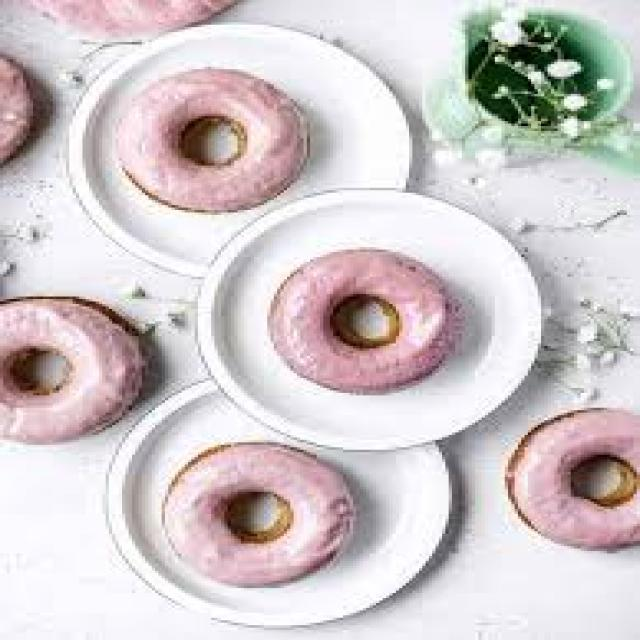Donut: (154, 422, 406, 586), (271, 245, 497, 397), (127, 59, 318, 211), (0, 278, 153, 458)
